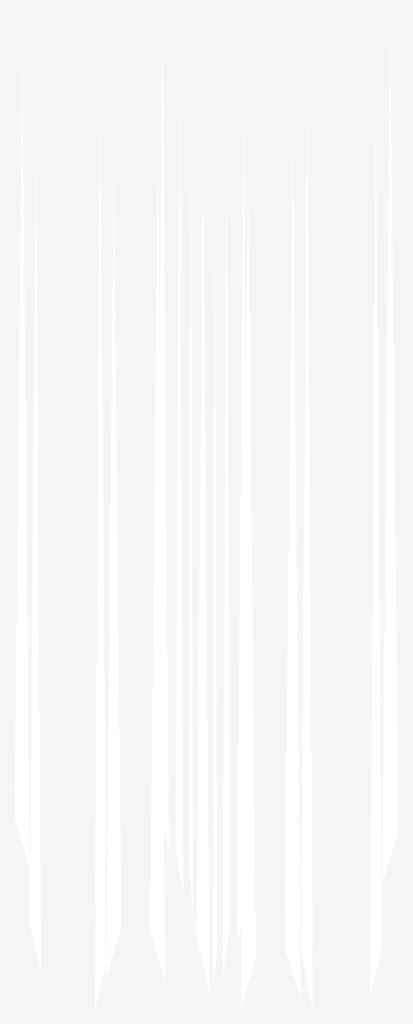
The model's file is cannon5.glb.
The picture shows the model from 3 angles, left to right: view 1: azimuth 90°, elevation 25°; view 2: azimuth 150°, elevation 25°; view 3: azimuth 270°, elevation 25°; orthographic projection. The views are drawn at different scales.
Visible parts, largest first — view 1: group_13; view 2: group_13; view 3: group_13.
Boxes of the visible parts, x1,y1,x2,y2 form: group_13: (14,72,121,1008); group_13: (150,23,255,1009); group_13: (284,17,398,1008).
Size of the model in its own units: 286 by 2846 by 286.
Materials: 1 (1 with a texture image).
